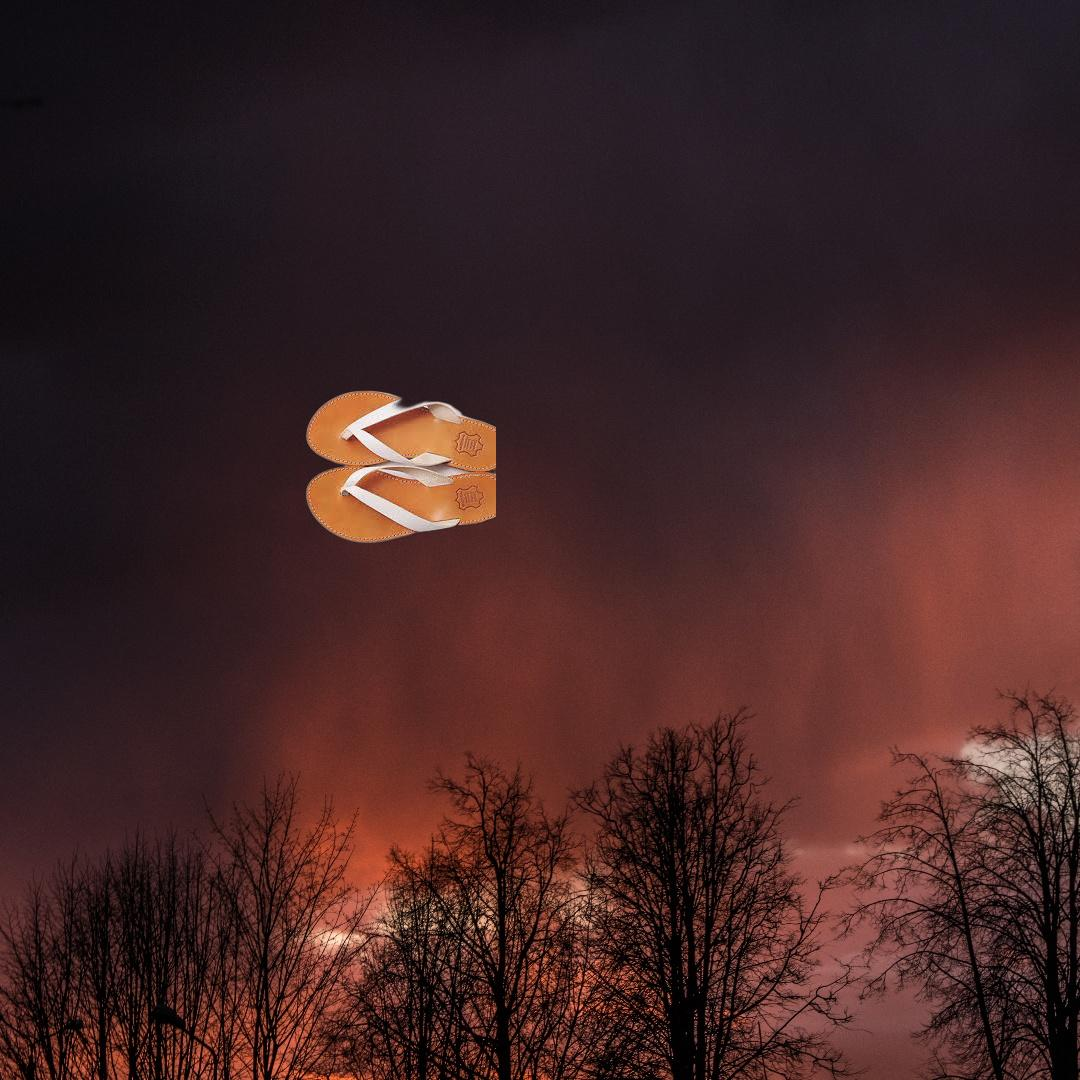shoes: (303, 388, 496, 546)
trashbox-cardboard: (936, 311, 1080, 970)
